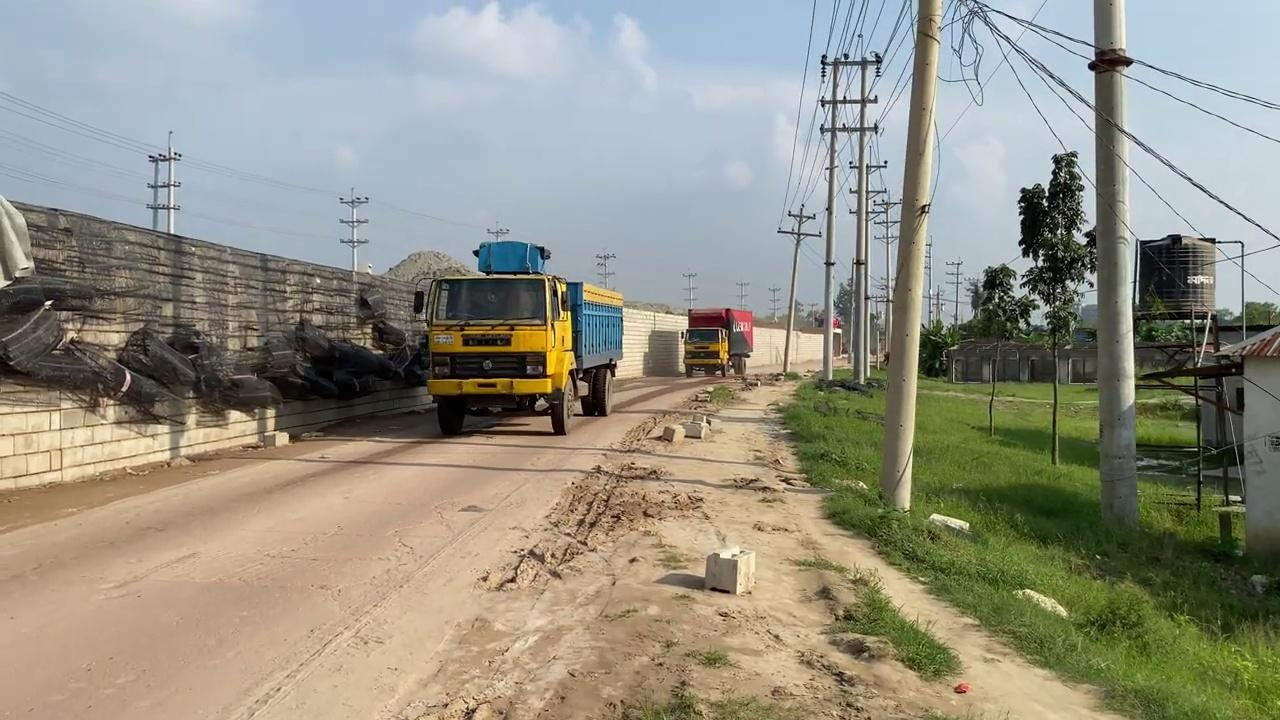Muddy road: (0, 366, 1123, 718)
Obstacle: (704, 546, 755, 595)
Pole: (878, 0, 943, 513), (1091, 0, 1139, 537), (848, 55, 879, 384), (819, 56, 841, 380)
Sidewalk: (1134, 441, 1243, 497)
Traffic-sign: (1015, 149, 1097, 466)
Tree: (412, 224, 624, 436), (679, 307, 752, 378)
